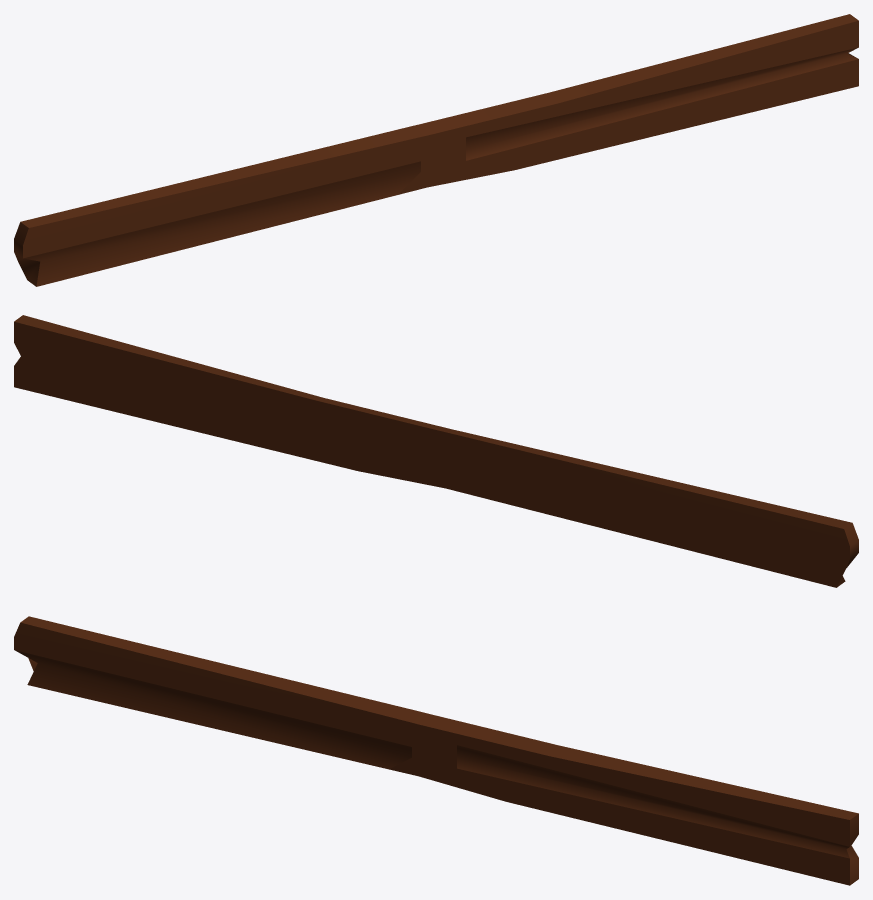
Rendered from doorbar.FBX.
3 views of the same model, one above another, from view 1: azimuth 30°, elevation 25°; view 2: azimuth 150°, elevation 25°; view 3: azimuth 330°, elevation 25° (orthographic).
Parts seen in each view (by area): view 1: Door bar; view 2: Door bar; view 3: Door bar.
Part boxes in pixels (left/top/right/bottom): Door bar: left=14, top=14, right=858, bottom=286; Door bar: left=14, top=315, right=858, bottom=587; Door bar: left=14, top=616, right=858, bottom=885.
Bounding box in the file's own units: 1600 × 120 × 30.
